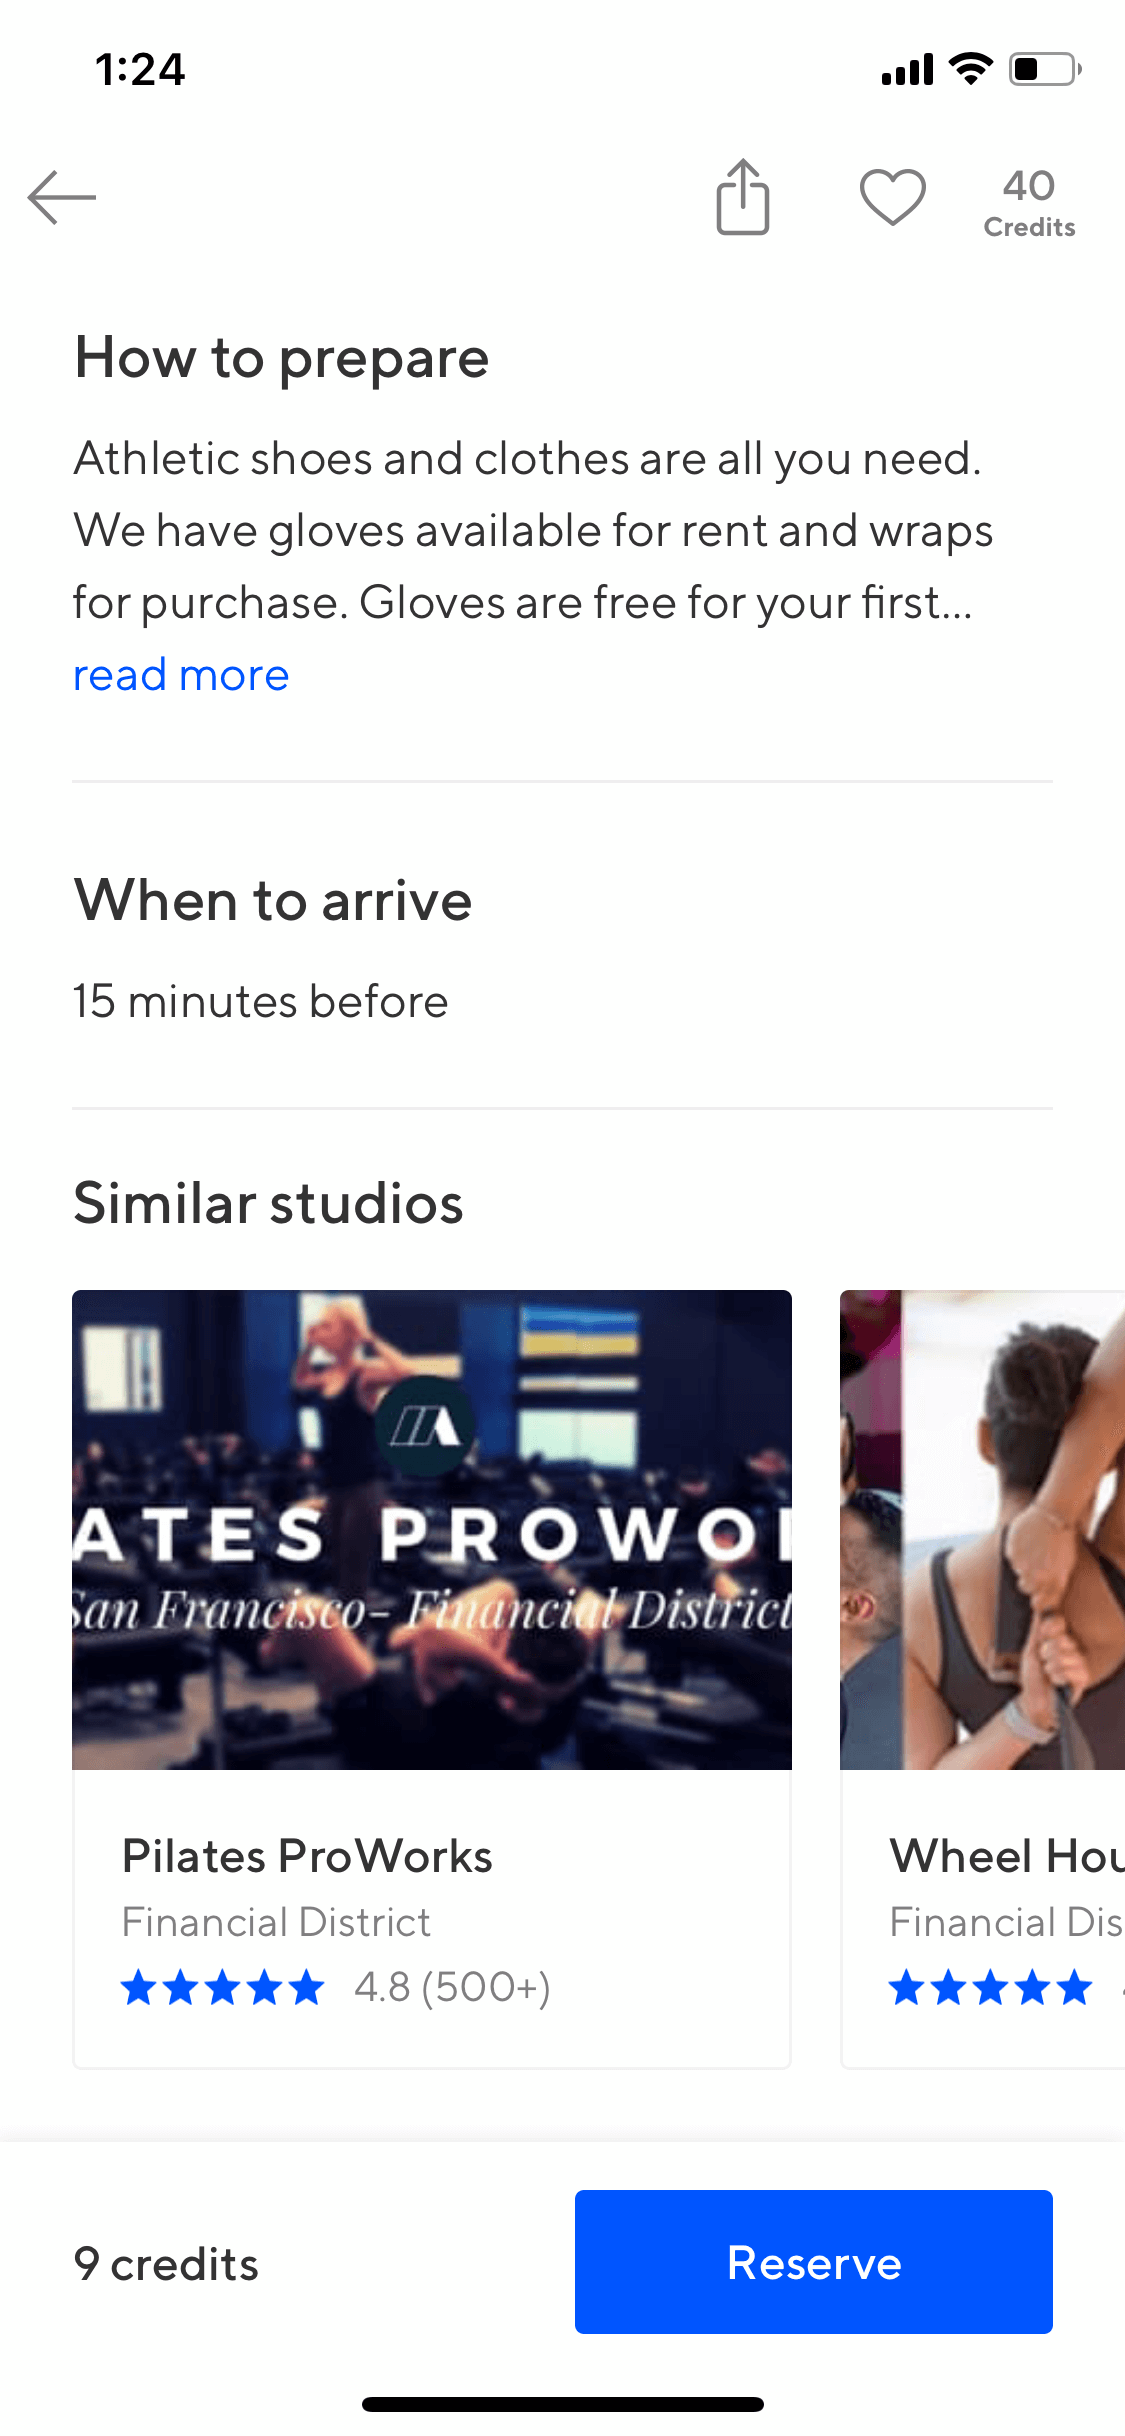Buttons: (558, 2166, 1064, 2341), (2, 106, 132, 259), (679, 127, 810, 263), (841, 127, 959, 259), (973, 123, 1085, 259)
Rating: (99, 1957, 420, 2017), (864, 1953, 1113, 2020)
